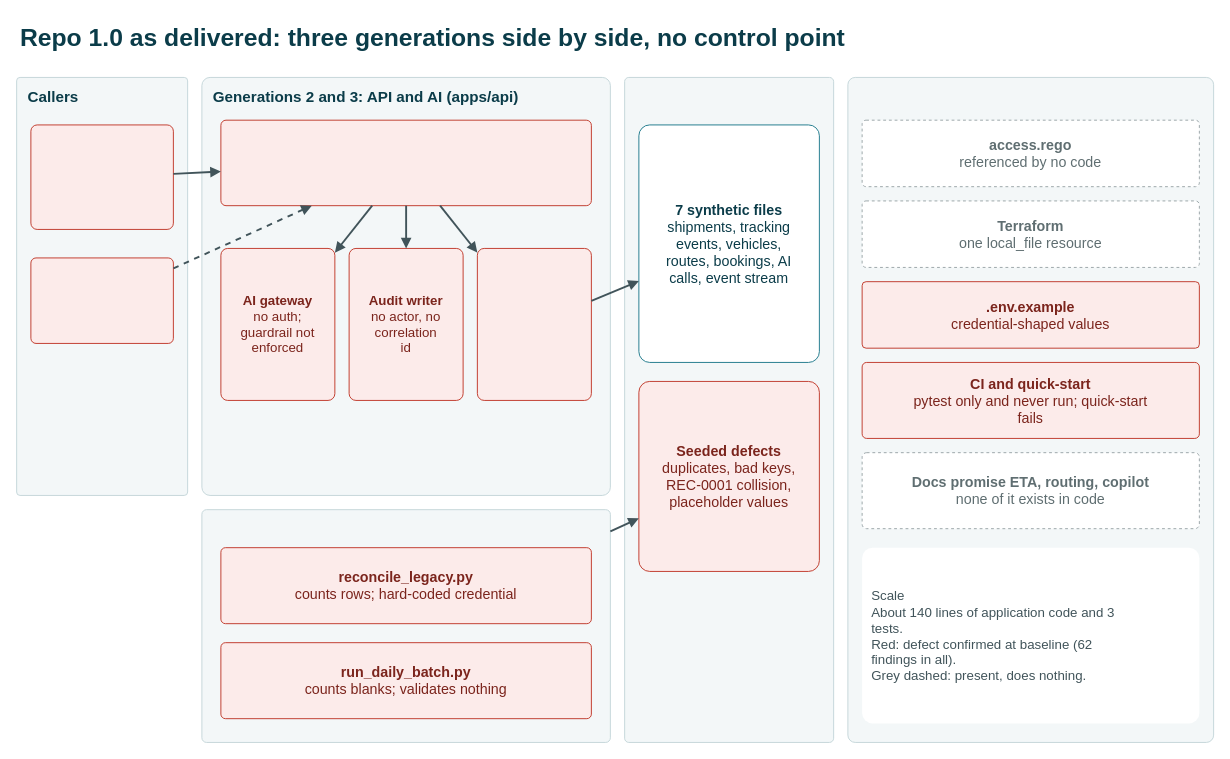
This 1230x759 diagram has some shape labels left out. Here are the shapes that lost their labels. From the top down, the box of each, then its label:
(30, 124, 173, 229): API caller sends an X-User-Role header
(220, 119, 591, 206): main.py: 3 routes role taken from the header, never checked
(30, 257, 173, 343): Web portal scaffold only
(476, 247, 591, 400): Record lookup any column; a row even on a miss
(624, 76, 834, 742): Data (data/synthetic)
(847, 76, 1214, 742): Present but not connected
(201, 509, 610, 742): Generation 1: legacy batch
